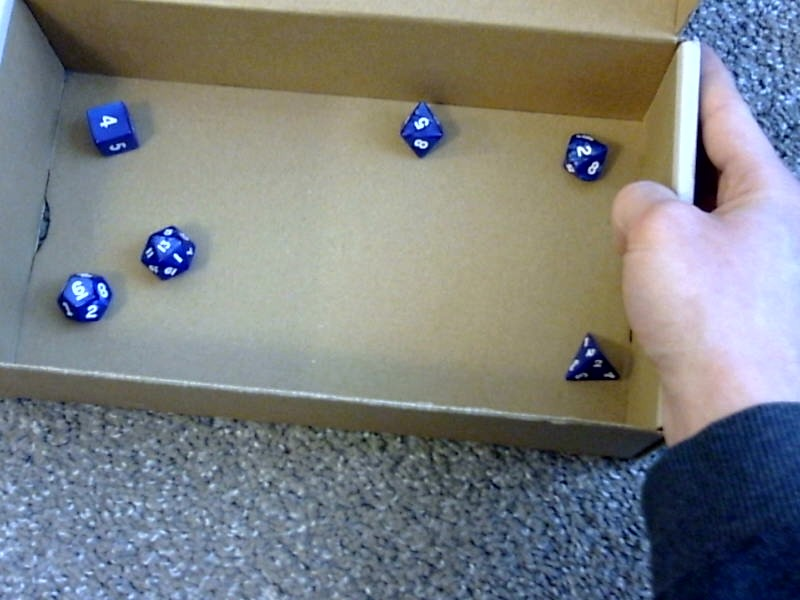d10 2: (561, 125, 610, 183)
d12 6: (55, 267, 111, 323)
d20 13: (133, 218, 196, 284)
d4 2: (566, 327, 622, 389)
d6 4: (83, 94, 139, 160)
d8 5: (390, 97, 444, 161)
